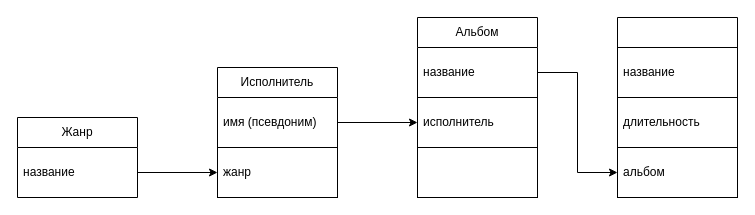
The diagram is 755 pixels wide and 215 high, and some of its shapes have lost their labels. The box of each missing label's shape, as (x1, y1, x2, y2) in pixels:
год выпуска: (416, 146, 538, 198)
Трек: (616, 16, 738, 198)
